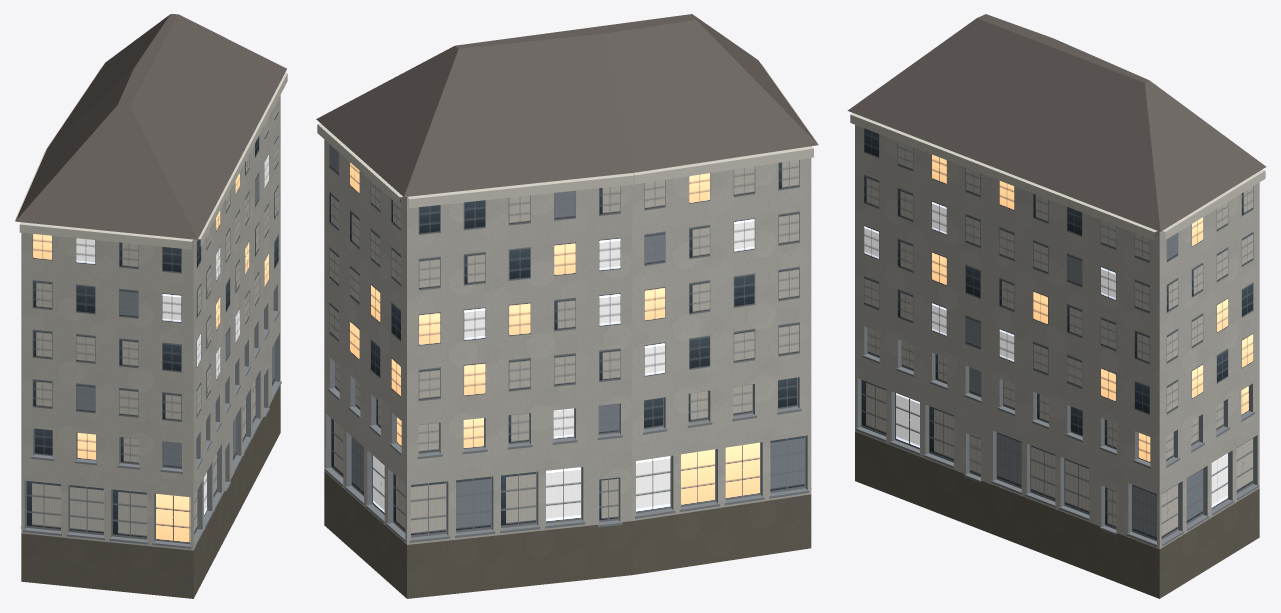
3 views of the same model, side by side, from view 1: azimuth 30°, elevation 25°; view 2: azimuth 150°, elevation 25°; view 3: azimuth 270°, elevation 25° (orthographic). The views are drawn at different scales.
Parts seen in each view (by area): view 1: z3c_zy_se; view 2: z3c_zy_se; view 3: z3c_zy_se.
Part boxes in pixels (x1=…): z3c_zy_se: x1=14, y1=14, x2=287, y2=598; z3c_zy_se: x1=316, y1=14, x2=818, y2=598; z3c_zy_se: x1=847, y1=14, x2=1266, y2=598.
Size of the model in its own units: 23.44 by 27.97 by 23.04.
Materials: 3 (3 with a texture image).
